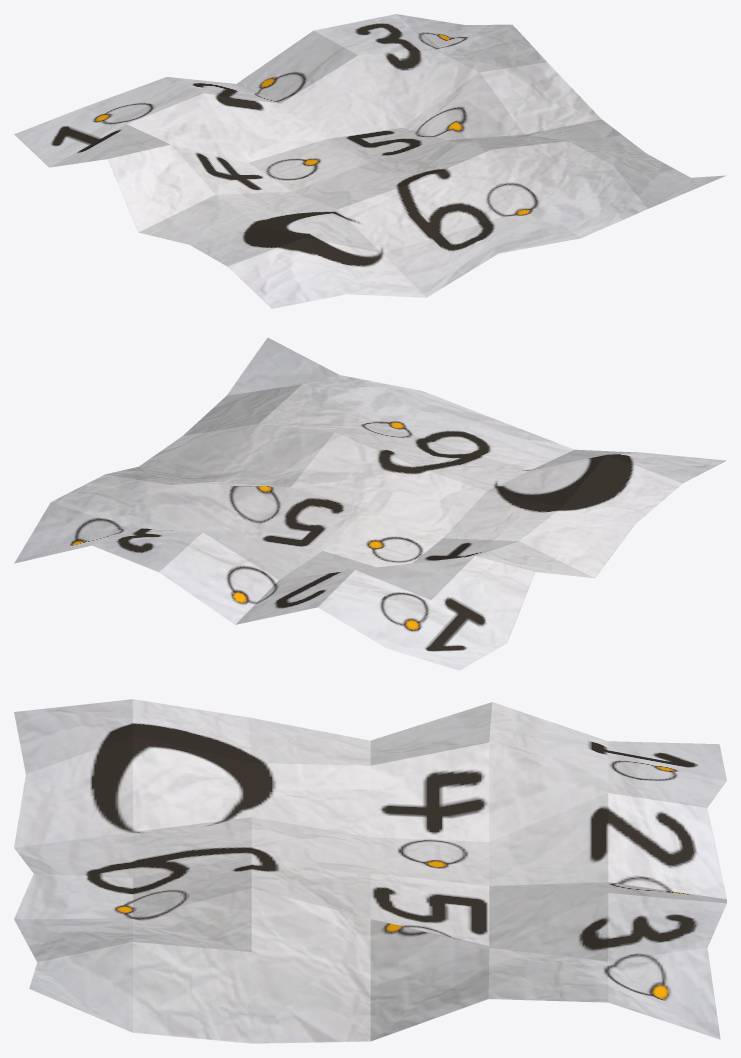
Rendered from paper2.gltf.
The picture shows the model from 3 angles, top to bottom: view 1: azimuth 30°, elevation 25°; view 2: azimuth 150°, elevation 25°; view 3: azimuth 270°, elevation 25°; orthographic projection. The views are drawn at different scales.
Visible parts, largest first — view 1: Plane; view 2: Plane; view 3: Plane.
Part boxes in pixels (left/top/right/bottom): Plane: left=14, top=14, right=726, bottom=308; Plane: left=14, top=337, right=726, bottom=670; Plane: left=14, top=699, right=726, bottom=1043.
Bounding box in the file's own units: 0.2783 × 0.0271 × 0.2783.
1 material, 1 textured.
